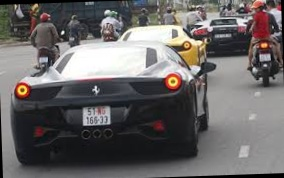plate: (81, 102, 111, 126), (259, 53, 271, 63), (213, 32, 231, 37), (38, 56, 48, 64)
